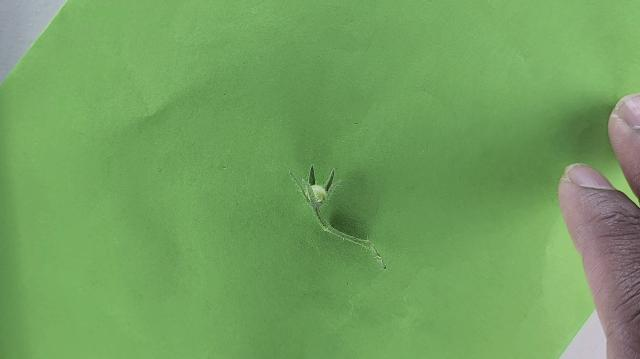Fruit Bud: (294, 164, 341, 209)
